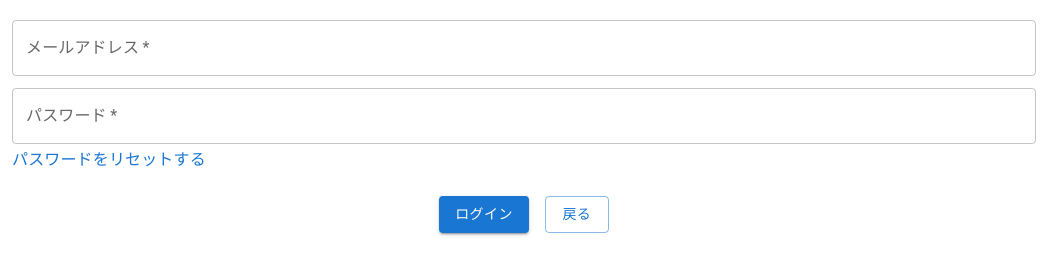
Test: LoginForm › validation message is displayed if no password is entered
Type "test@gmail.com" into the field labelled "メールアドレス". click: (524, 48)
box: [12,20,1036,76]
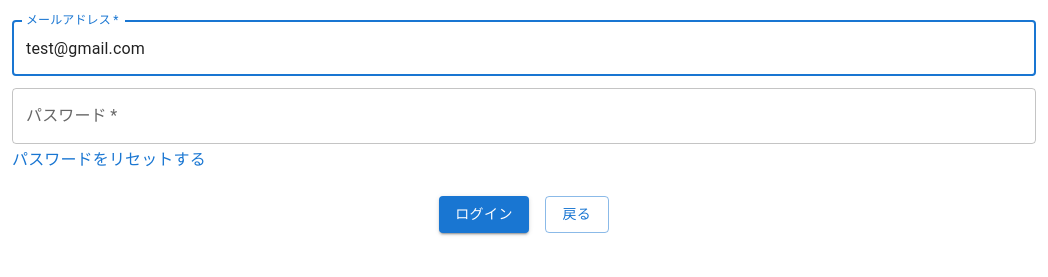
Click the button "ログイン". click: (484, 214)
box: [439,196,529,232]
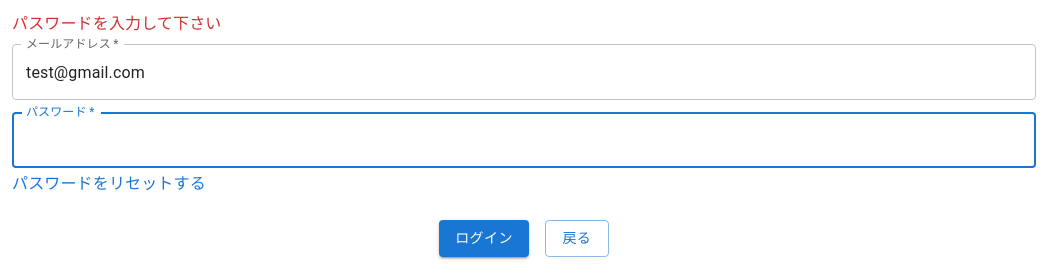
Result: the text "パスワードを入力して下さい" is shown at [12,14,222,33]
